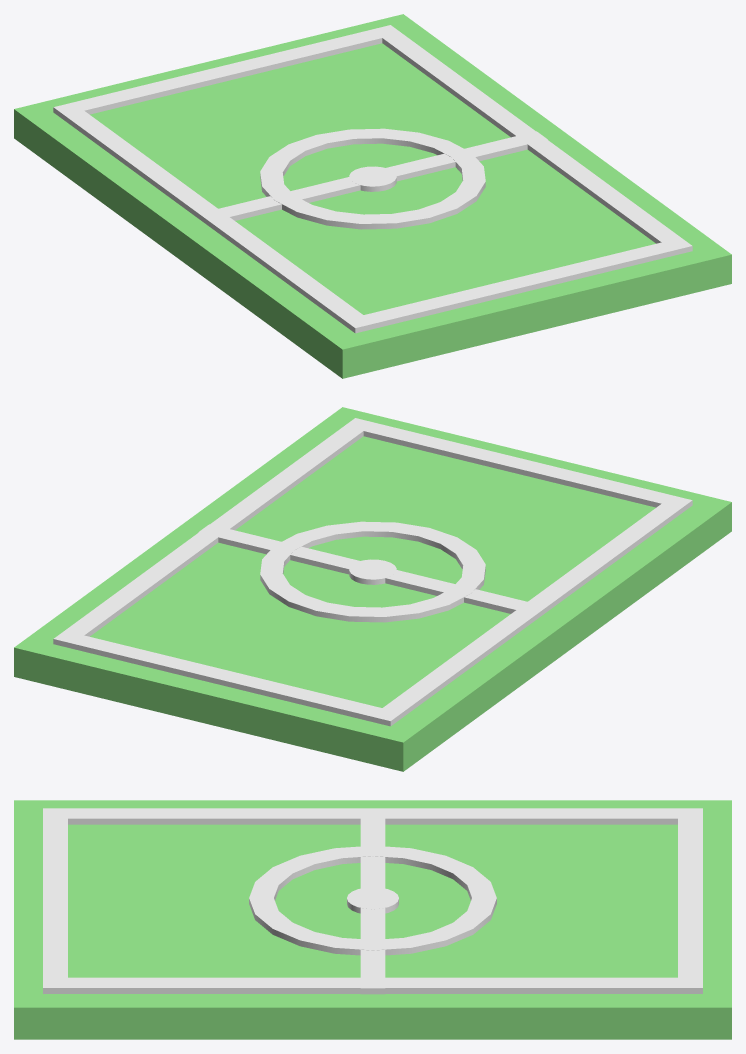
Rendered from Field.fbx.
3 renders of one model, top to bottom at view 1: azimuth 30°, elevation 25°; view 2: azimuth 150°, elevation 25°; view 3: azimuth 270°, elevation 25°, orthographic. The views are drawn at different scales.
Parts seen in each view (by area): view 1: FieldMerged; view 2: FieldMerged; view 3: FieldMerged.
Boxes of the visible parts, box(x1,y1,x2,y2) form: FieldMerged: box(14, 14, 731, 378); FieldMerged: box(14, 407, 731, 771); FieldMerged: box(14, 800, 731, 1039).
Size of the model in its own units: 13.9 by 1.74 by 20.32.
